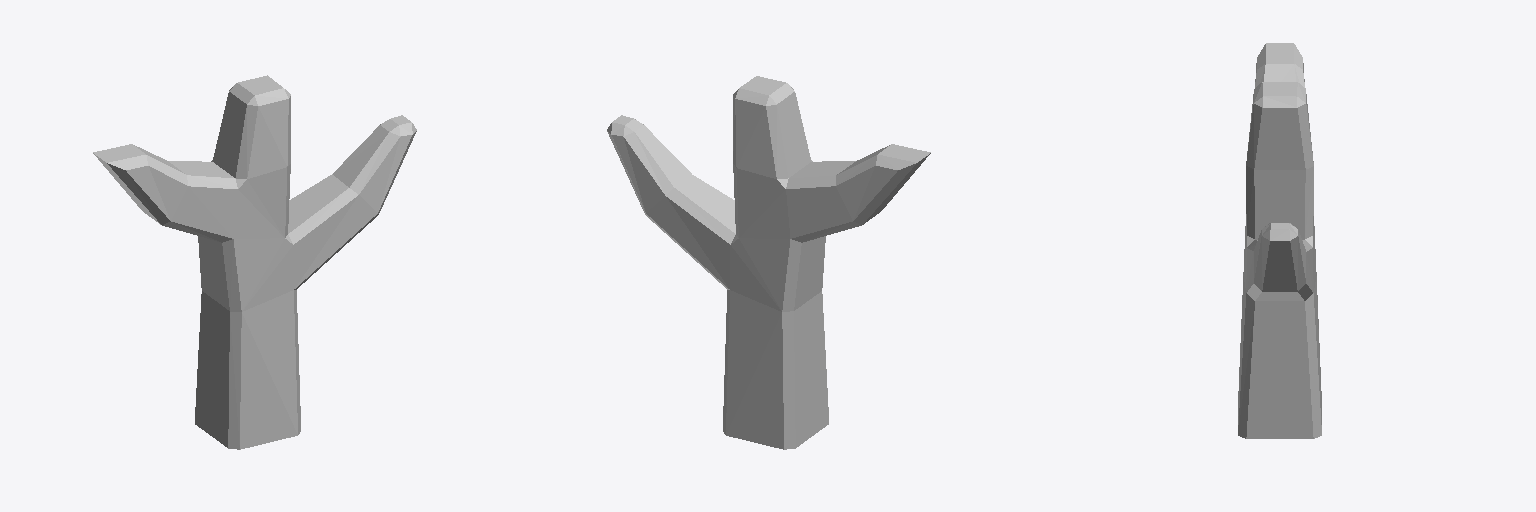
Rendered from Cactus.obj.
3 views of the same model, side by side, from view 1: azimuth 30°, elevation 25°; view 2: azimuth 150°, elevation 25°; view 3: azimuth 270°, elevation 25° (orthographic).
Bounding box in the file's own units: 4.87 × 5.04 × 1.14.